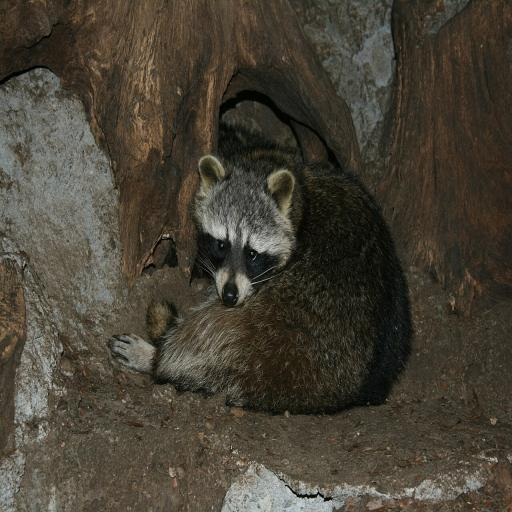raccoon: (110, 126, 411, 412)
